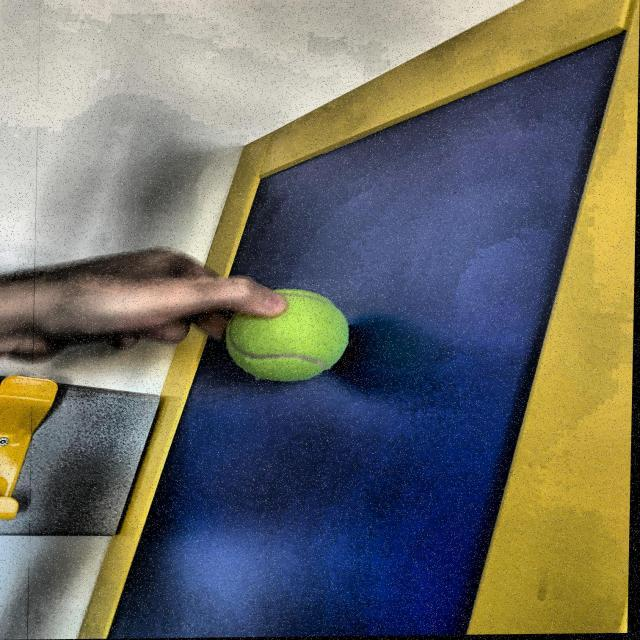tennis-ball: (226, 280, 360, 396)
